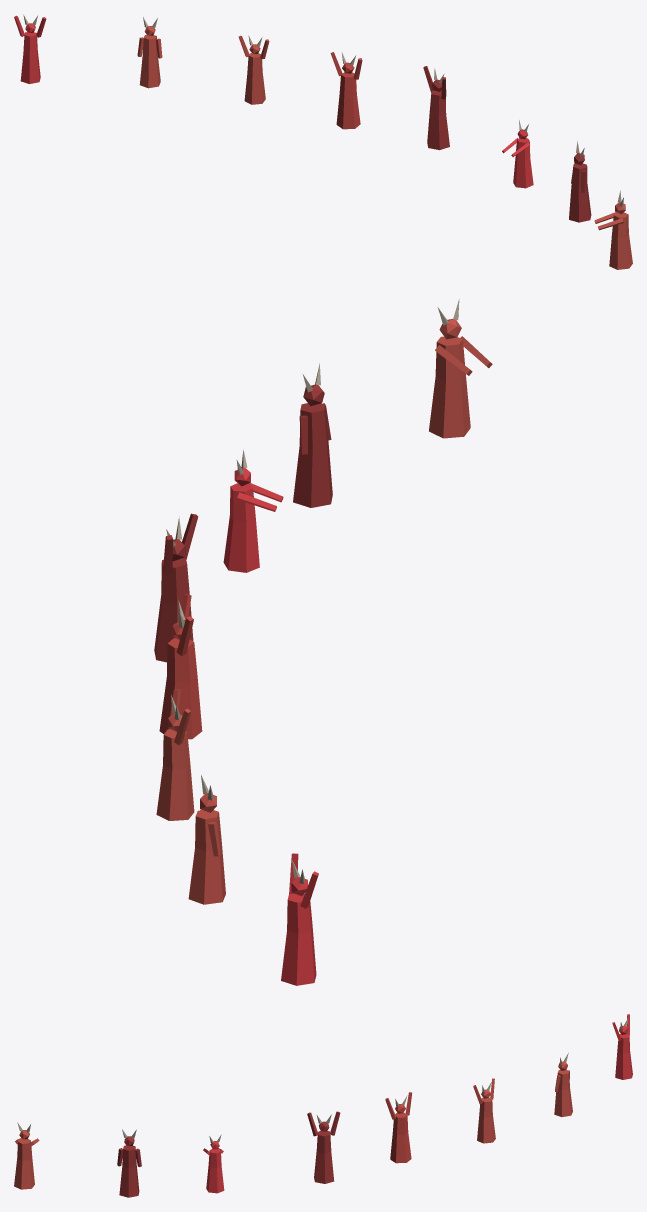
Rendered from Stands_4_1_0_Ice.obj.
The picture shows the model from 3 angles, top to bottom: view 1: azimuth 30°, elevation 25°; view 2: azimuth 150°, elevation 25°; view 3: azimuth 270°, elevation 25°; orthographic projection. The views are drawn at different scales.
Visible parts, largest first — view 1: Stands_4_1_0_Ice; view 2: Stands_4_1_0_Ice; view 3: Stands_4_1_0_Ice.
Part boxes in pixels (x1,y1,x2,y2): Stands_4_1_0_Ice: (14,14,632,269); Stands_4_1_0_Ice: (154,299,492,985); Stands_4_1_0_Ice: (14,1014,632,1197).
Size of the model in its own units: 15.6 by 3.77 by 31.95.
Materials: 1 (1 with a texture image).
